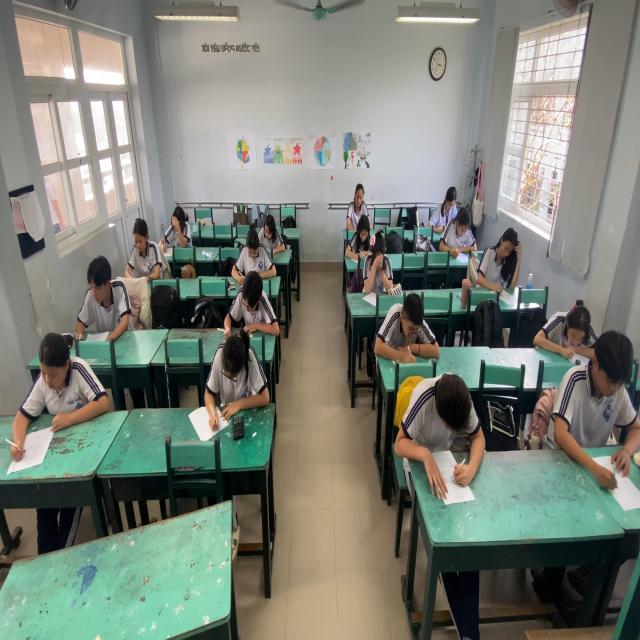not_cheating: (555, 334, 640, 458), (394, 369, 495, 466), (15, 324, 110, 421), (370, 292, 440, 372), (72, 258, 128, 344), (209, 331, 268, 410), (527, 290, 592, 358), (480, 220, 528, 294), (225, 272, 277, 338), (124, 213, 164, 290), (436, 203, 482, 258), (365, 230, 396, 299), (238, 220, 270, 280), (254, 206, 285, 265), (163, 196, 194, 248), (343, 175, 371, 224), (350, 210, 374, 262), (433, 186, 458, 216)
